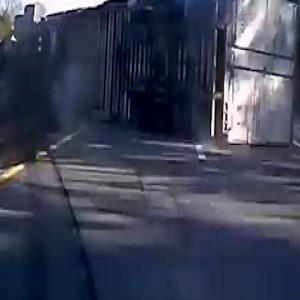serious: (0, 0, 300, 155)
